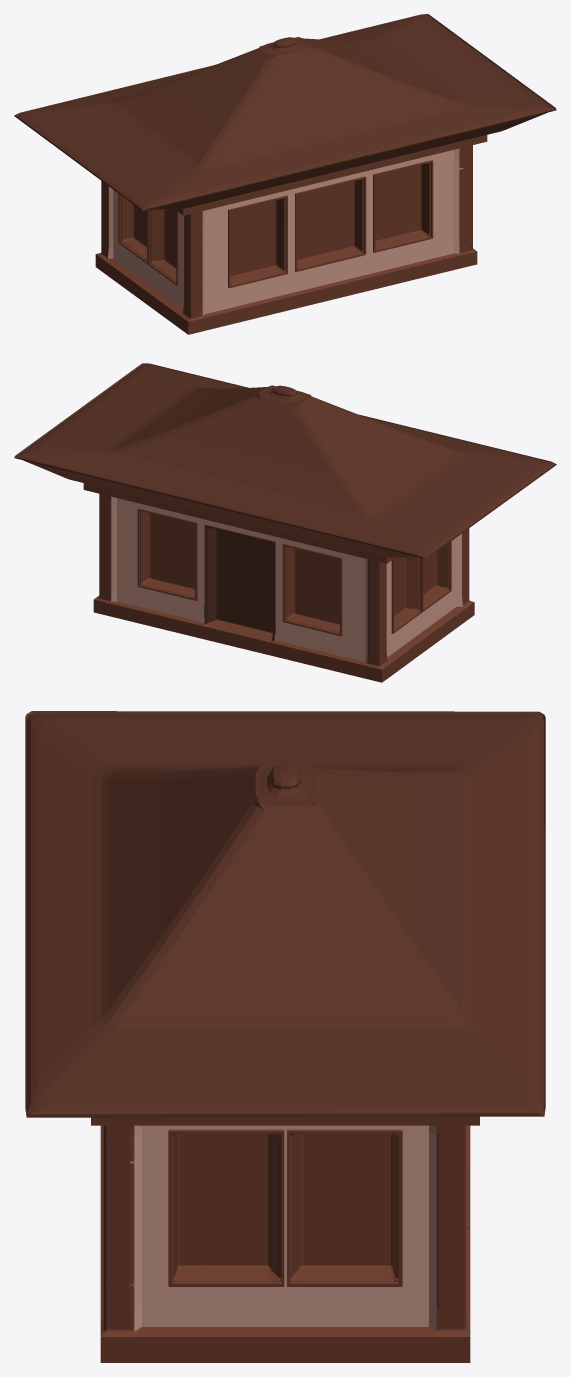
The picture shows the model from 3 angles, top to bottom: view 1: azimuth 30°, elevation 25°; view 2: azimuth 150°, elevation 25°; view 3: azimuth 270°, elevation 25°; orthographic projection. The views are drawn at different scales.
Parts seen in each view (by area): view 1: ev2.001; view 2: ev2.001; view 3: ev2.001.
Boxes of the visible parts, box(x1,y1,x2,y2) form: ev2.001: box(14, 14, 556, 334); ev2.001: box(14, 363, 556, 682); ev2.001: box(25, 711, 545, 1362).
Size of the model in its own units: 110 by 57.47 by 60.07.
